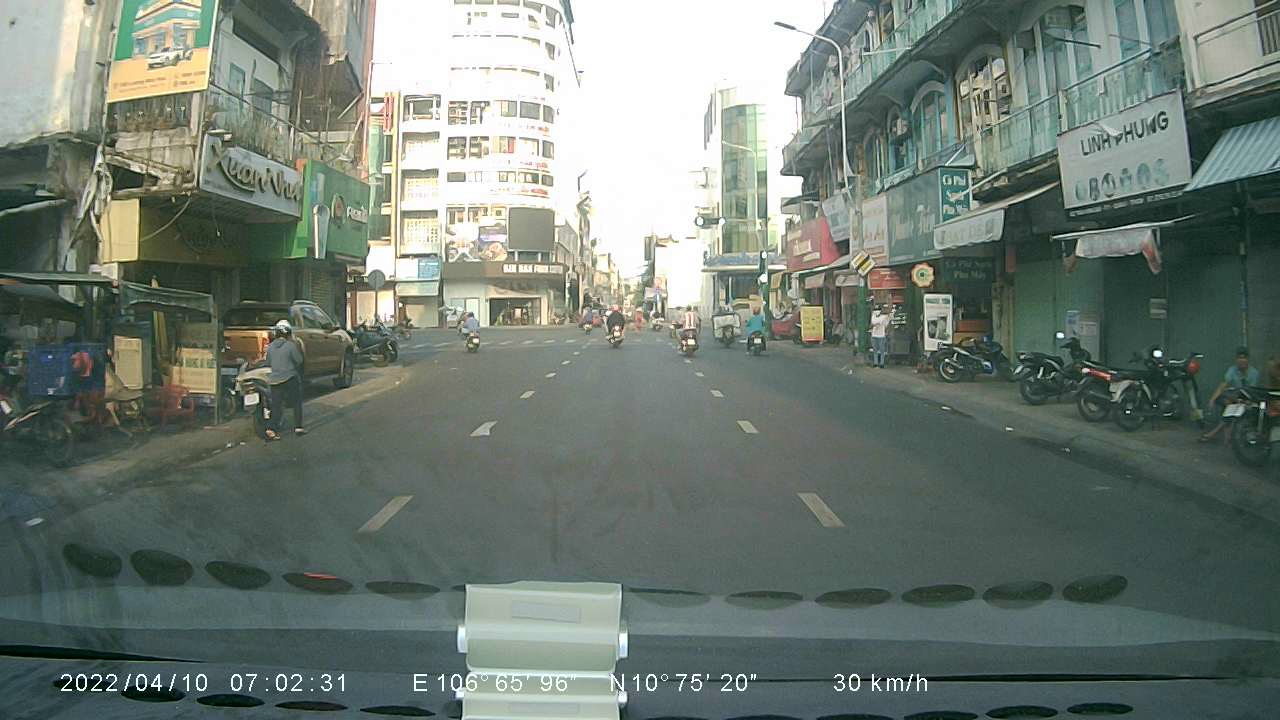Bien khac: (849, 247, 875, 276)
